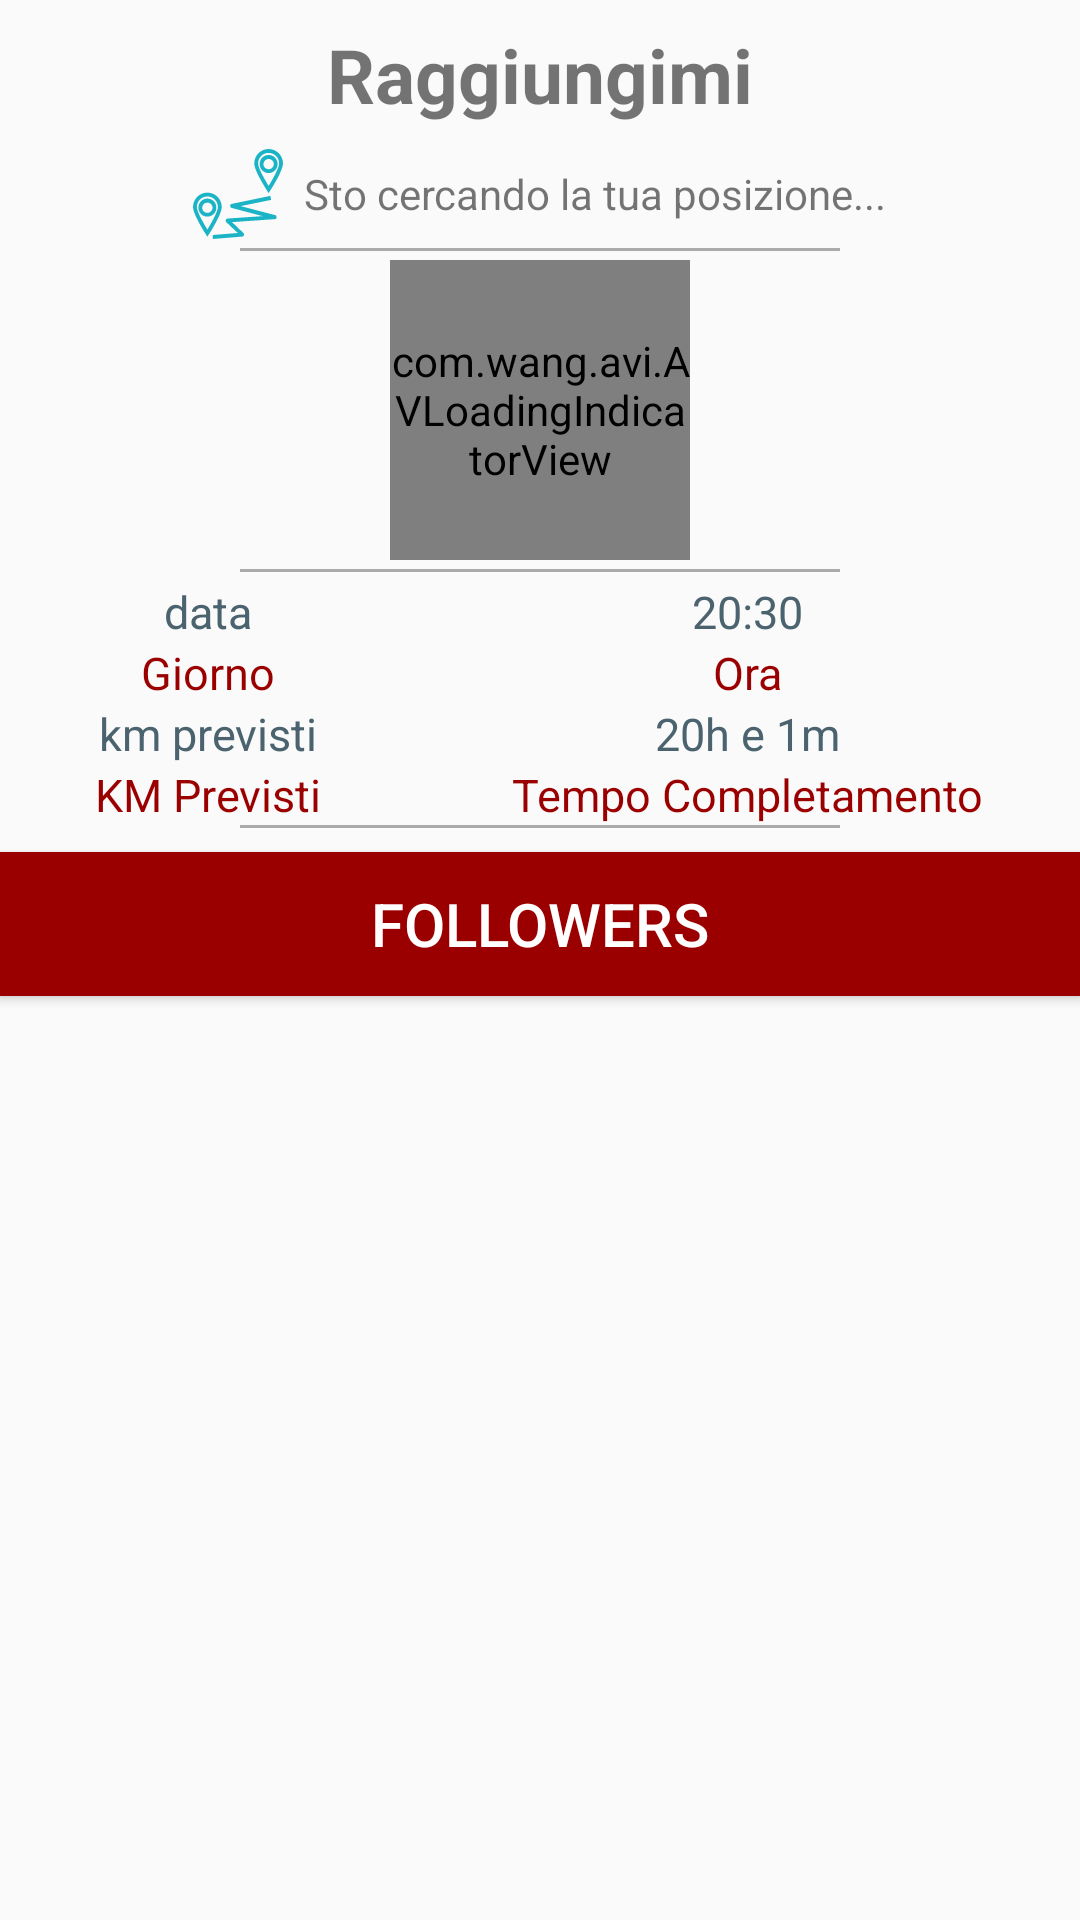

Point at icon controls on the screen. Image size 1080 x 1920, points as point (x, y).
distance: point (238, 194)
